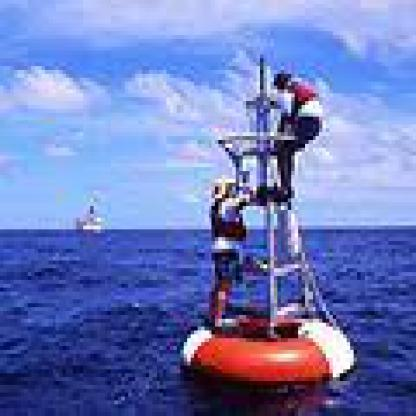buoy: (170, 46, 364, 392)
